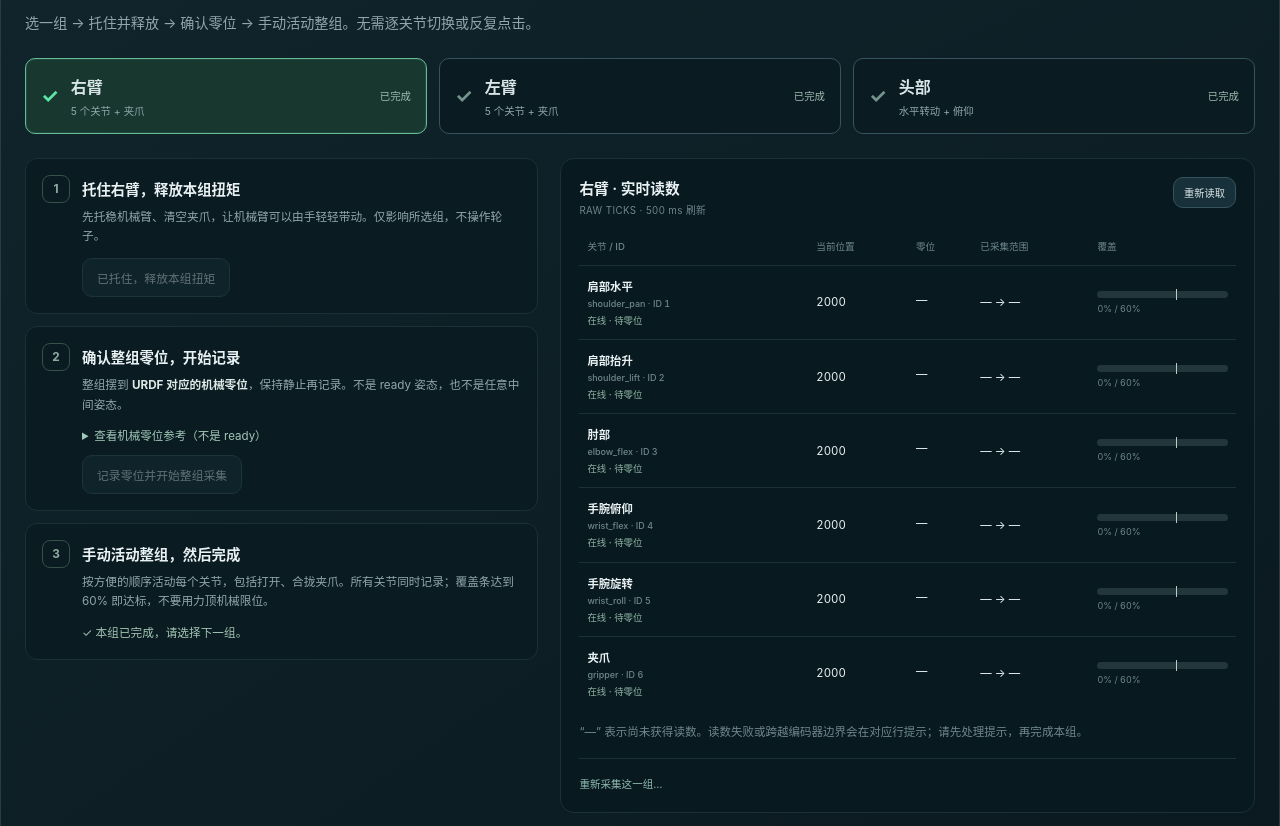
Test: whole-group servo calibration › requires explicit confirmation to reset only this group and gates final saving
What coordinates should you click on to do the following:
click the button "重新采集这一组…"
I would click on:
 (621, 783)
Its box is [579, 773, 662, 794].
(page scrolled)
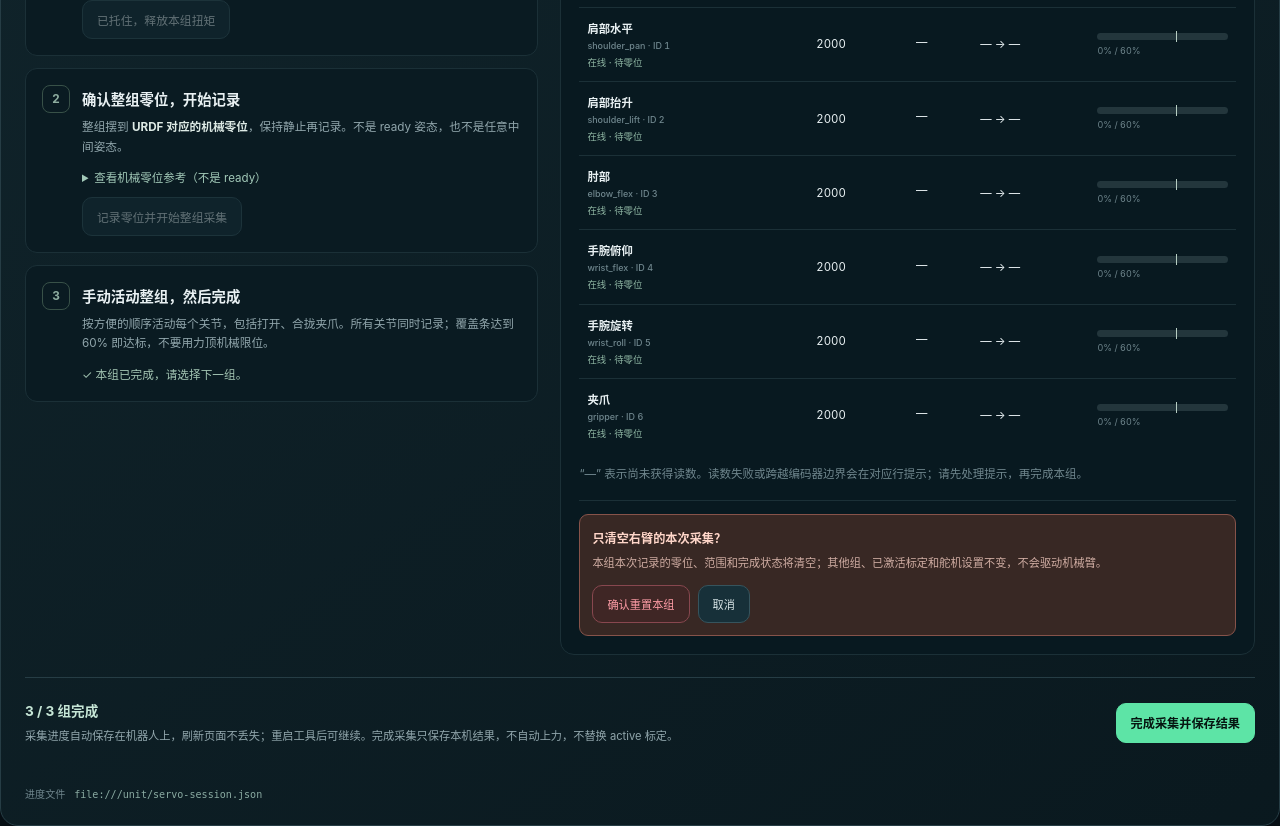
Check: the dialog shows "其他组、已激活标定和舵机设置不变", box [592, 556, 1107, 570]
What coordinates should you click on to do the following:
click the button "取消"
I would click on:
 (724, 604)
Its box is [698, 585, 750, 623].
(page scrolled)
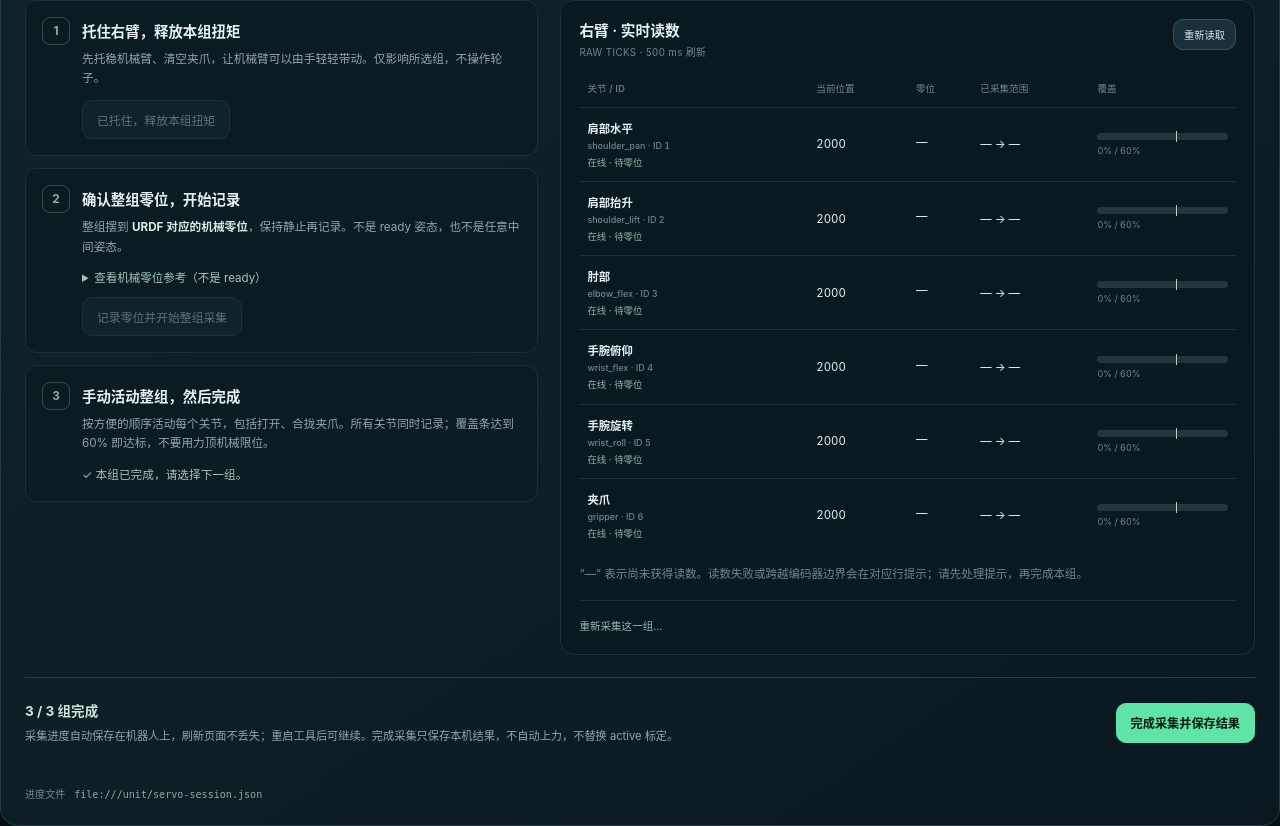
Check: the dialog is gone
What coordinates should you click on to do the following:
click the button "重新采集这一组…"
I would click on:
 (621, 625)
Its box is [579, 615, 662, 636].
(page scrolled)
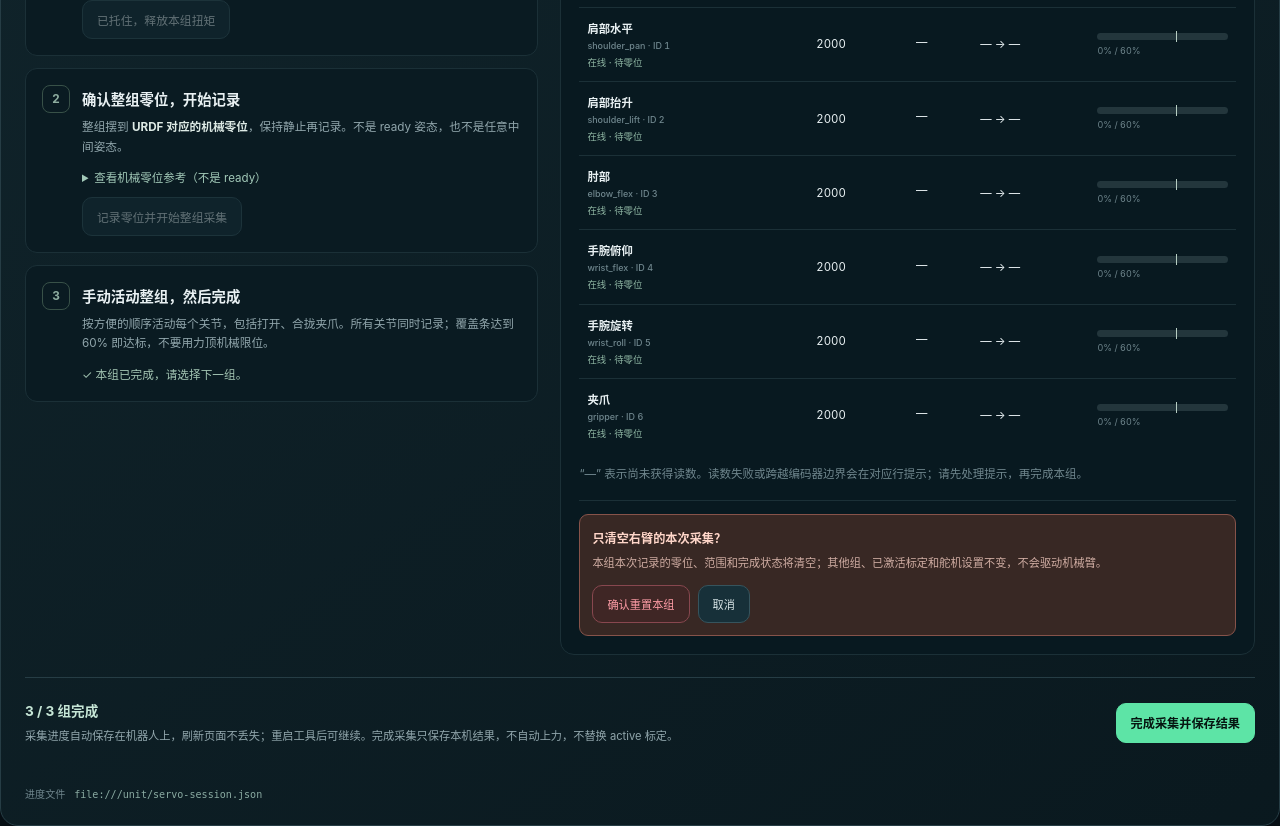
What coordinates should you click on to do the following:
click the button "确认重置本组"
I would click on:
 (641, 604)
Its box is [592, 585, 690, 623].
(page scrolled)
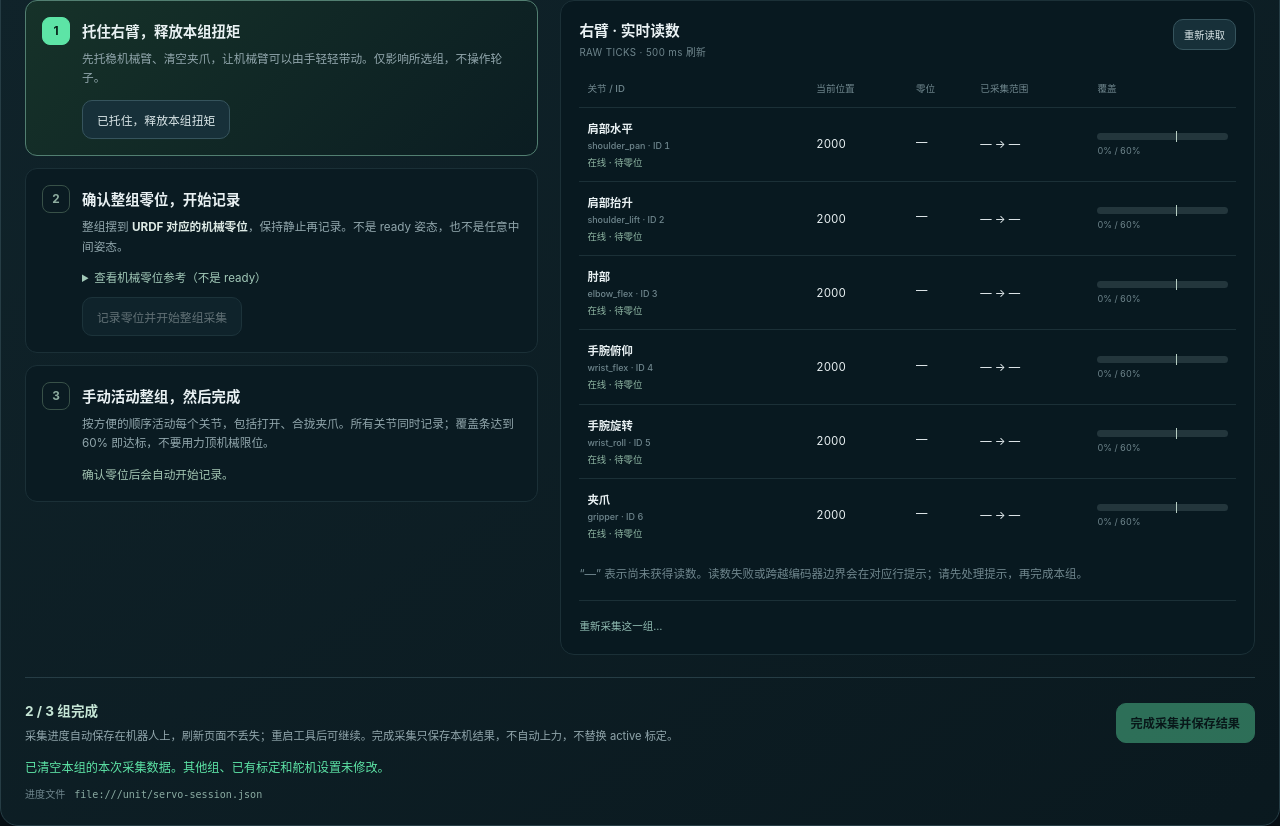
Check: the button "完成采集并保存结果" is disabled, box [1116, 703, 1255, 743]
